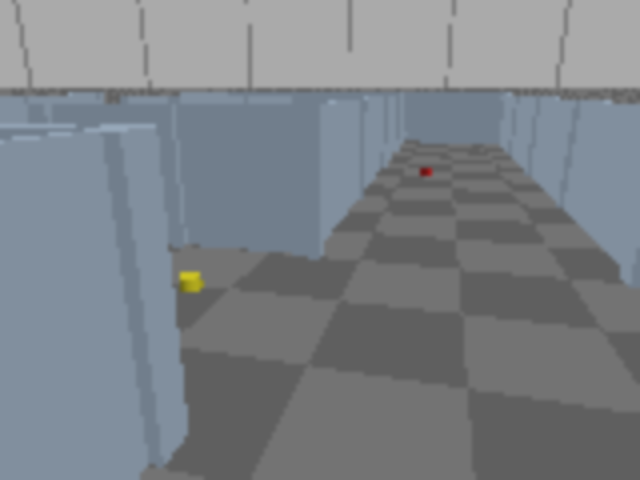puck: (179, 272, 203, 293)
